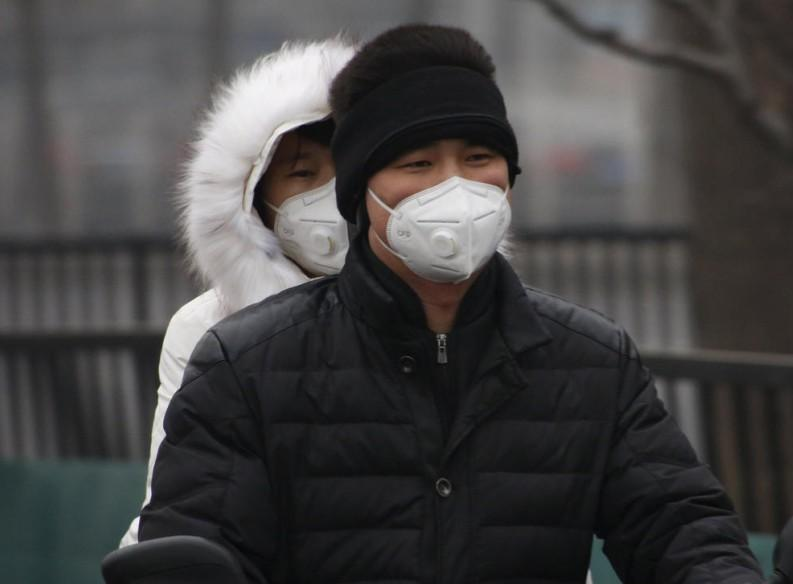face_mask: (352, 118, 510, 282), (262, 122, 355, 276)
